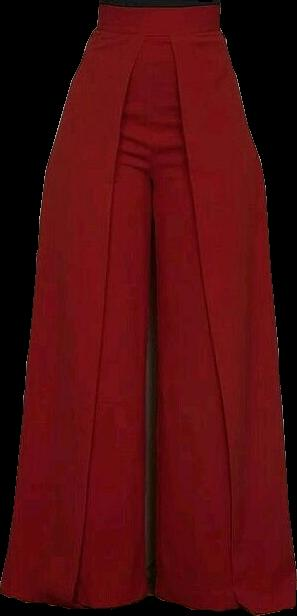Hemline: (0, 586, 155, 611), (151, 589, 296, 613)
Pantleg: (0, 4, 151, 608), (153, 4, 295, 613)
Waistline: (95, 24, 219, 40), (98, 0, 219, 12)
